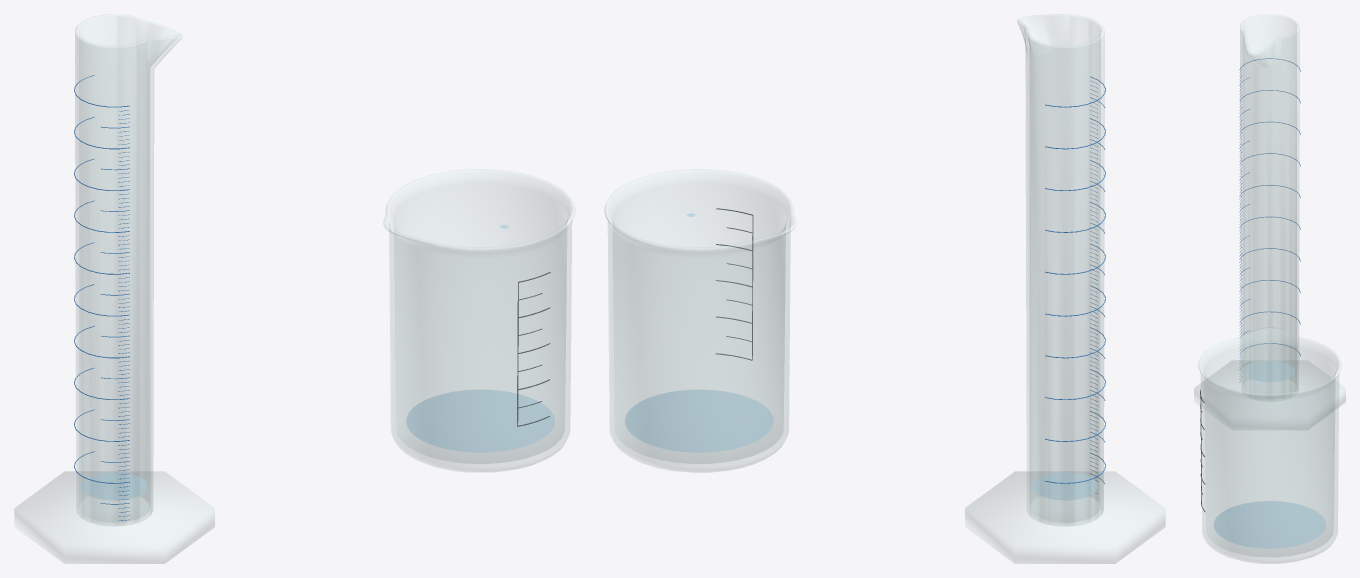
Rendered from medicion-agua.glb.
3 renders of one model, left to right at view 1: azimuth 30°, elevation 25°; view 2: azimuth 150°, elevation 25°; view 3: azimuth 270°, elevation 25°, orthographic. The views are drawn at different scales.
Visible parts, largest first — view 1: E04_Vaso_Beaker_250mL, E04_Probeta_Cuerpo_Probeta, E04_Probeta_Base_Hexagonal, Agua_Vaso_Receptor_Nivel, E04_Probeta_Marca_1, Agua_Probeta_Nivel, E04_Vaso_Graduation_50; view 2: E04_Vaso_Beaker_250mL, E04_Probeta_Cuerpo_Probeta, E04_Probeta_Base_Hexagonal, Agua_Vaso_Receptor_Nivel, E04_Probeta_Marca_1, Agua_Probeta_Nivel; view 3: E04_Vaso_Beaker_250mL, E04_Probeta_Cuerpo_Probeta, Agua_Vaso_Receptor_Nivel, E04_Probeta_Base_Hexagonal, E04_Probeta_Marca_1, Agua_Probeta_Nivel, E04_Vaso_Graduation_50.
Boxes of the visible parts, box(x1,y1,x2,y2) form: E04_Vaso_Beaker_250mL: box(383, 169, 575, 472); E04_Probeta_Cuerpo_Probeta: box(75, 14, 182, 525); E04_Probeta_Base_Hexagonal: box(14, 471, 214, 563); Agua_Vaso_Receptor_Nivel: box(406, 389, 554, 452); E04_Probeta_Marca_1: box(74, 75, 129, 520); Agua_Probeta_Nivel: box(82, 472, 147, 500); E04_Vaso_Graduation_50: box(517, 272, 550, 426); E04_Vaso_Beaker_250mL: box(604, 169, 796, 472); E04_Probeta_Cuerpo_Probeta: box(1017, 14, 1104, 525); E04_Probeta_Base_Hexagonal: box(965, 471, 1165, 563); Agua_Vaso_Receptor_Nivel: box(625, 389, 773, 452); E04_Probeta_Marca_1: box(1045, 76, 1105, 493); Agua_Probeta_Nivel: box(1032, 472, 1097, 500); E04_Vaso_Beaker_250mL: box(1198, 327, 1341, 563); E04_Probeta_Cuerpo_Probeta: box(1240, 14, 1299, 398); Agua_Vaso_Receptor_Nivel: box(1213, 501, 1326, 548); E04_Probeta_Base_Hexagonal: box(1194, 361, 1345, 409); E04_Probeta_Marca_1: box(1239, 58, 1300, 382); Agua_Probeta_Nivel: box(1245, 361, 1294, 382); E04_Vaso_Graduation_50: box(1200, 389, 1205, 512).
Bounding box in the file's own units: 2.29 × 2.08 × 0.76.
